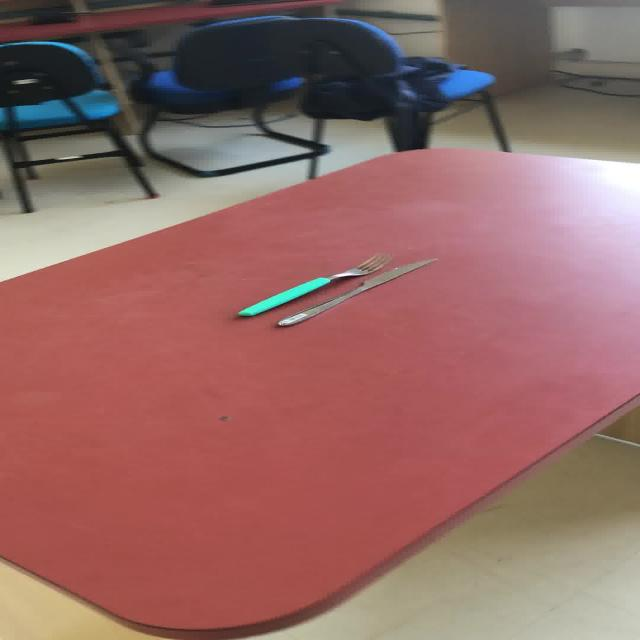fork: (235, 252, 392, 317)
knife fork: (234, 250, 438, 328), (274, 256, 438, 327)
